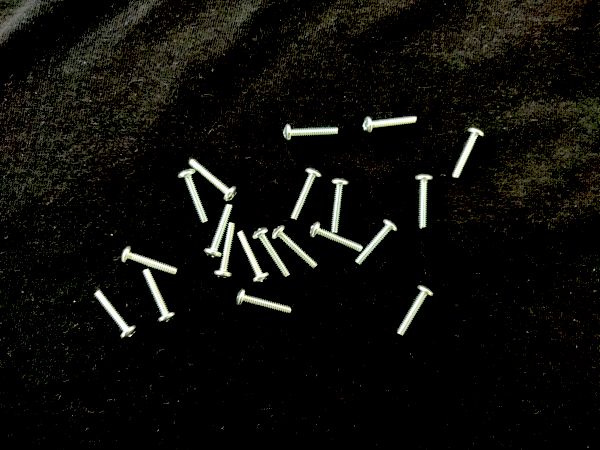longscrew: (353, 222, 399, 269), (396, 285, 438, 336), (451, 126, 489, 182), (249, 228, 289, 278), (275, 225, 317, 272), (190, 158, 237, 200), (290, 167, 324, 225), (312, 223, 364, 256), (176, 170, 208, 223), (237, 287, 293, 315), (203, 205, 233, 256), (236, 232, 267, 281), (123, 249, 176, 272), (215, 223, 235, 281), (281, 124, 339, 142), (364, 116, 422, 133), (330, 179, 347, 235), (417, 172, 431, 229)
